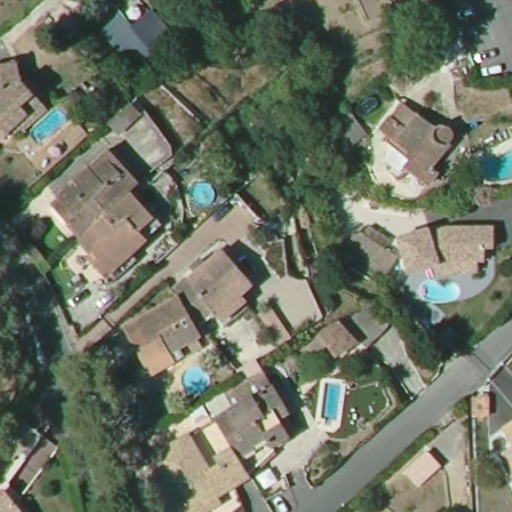pool: (313, 375, 348, 431), (27, 107, 70, 146), (479, 147, 512, 190), (177, 363, 216, 397), (419, 279, 462, 302), (186, 179, 222, 205)
